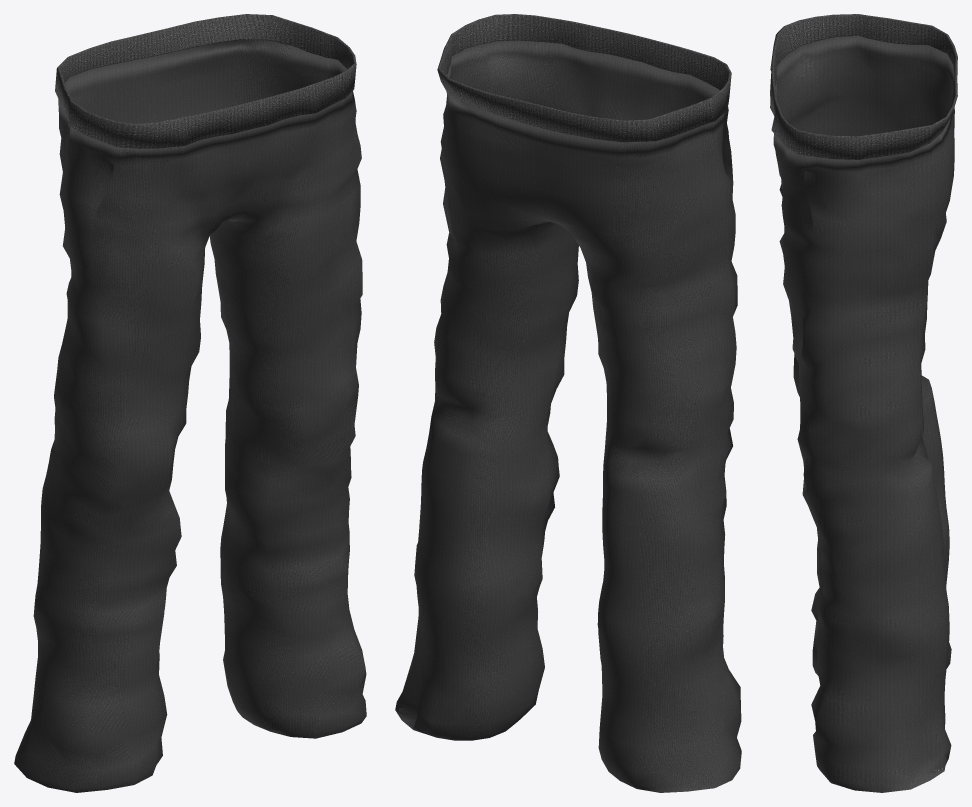
Rendered from low_poly_simple_pants_textured.glb.
3 views of the same model, side by side, from view 1: azimuth 30°, elevation 25°; view 2: azimuth 150°, elevation 25°; view 3: azimuth 270°, elevation 25° (orthographic). The views are drawn at different scales.
Parts seen in each view (by area): view 1: Object_4; view 2: Object_4; view 3: Object_4.
Part boxes in pixels (x1,y1,x2,y2): Object_4: (14,14,366,792); Object_4: (395,14,741,792); Object_4: (770,14,957,792).
Size of the model in its own units: 0.4903 by 0.9622 by 0.2552.
1 material, 1 textured.
